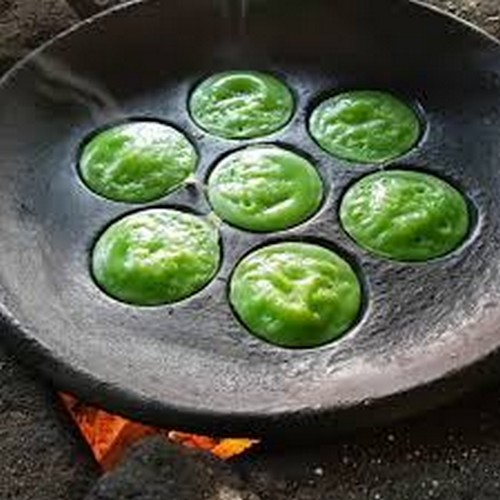laklak: (96, 69, 446, 339)
